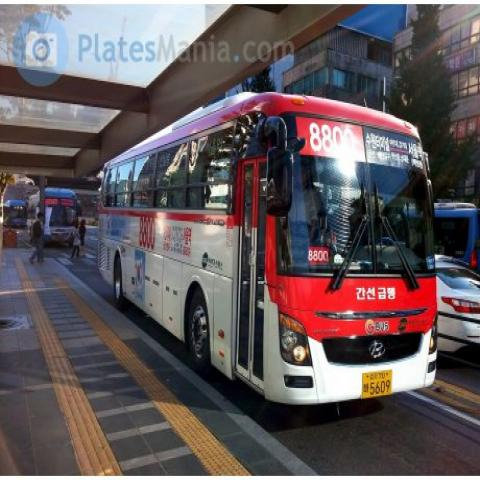LP: (357, 362, 395, 406)
